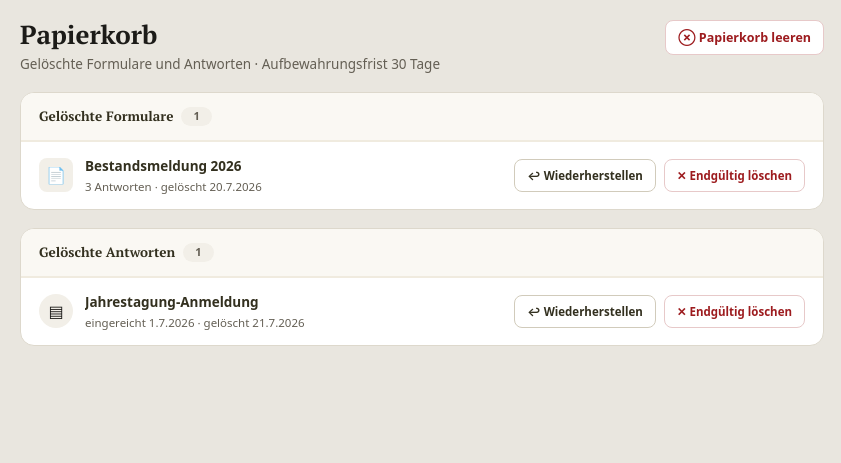
Test: TrashView › mit canPurge › offers a second run while more remains than failed
The image size is (841, 463).
Check: the text "Bestandsmeldung 2026" is shown, box [85,157,242,175]
Click the button "⊗ Papierkorb leeren" at (745, 38), box [665,20,824,55]
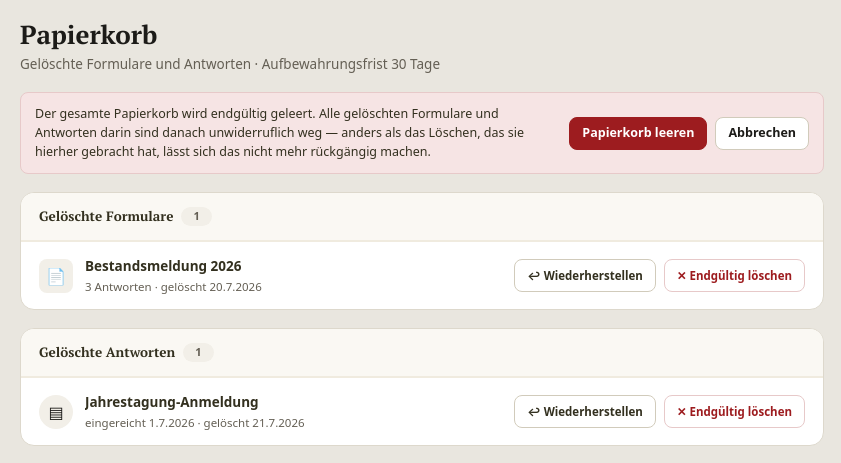
Click the button "Papierkorb leeren" at (638, 133), box [569,117,707,150]
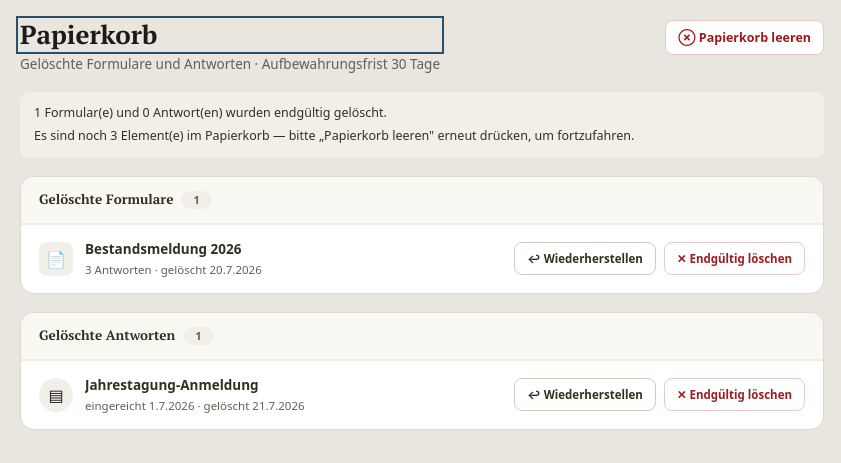
Check: the message with test id "trash-empty-result" is shown, box [20,92,824,158]
Check: the text with test id "trash-empty-remaining" shows "3", box [34,127,634,144]
Check: the text with test id "trash-empty-remaining" shows "erneut drücken", box [34,127,634,144]
